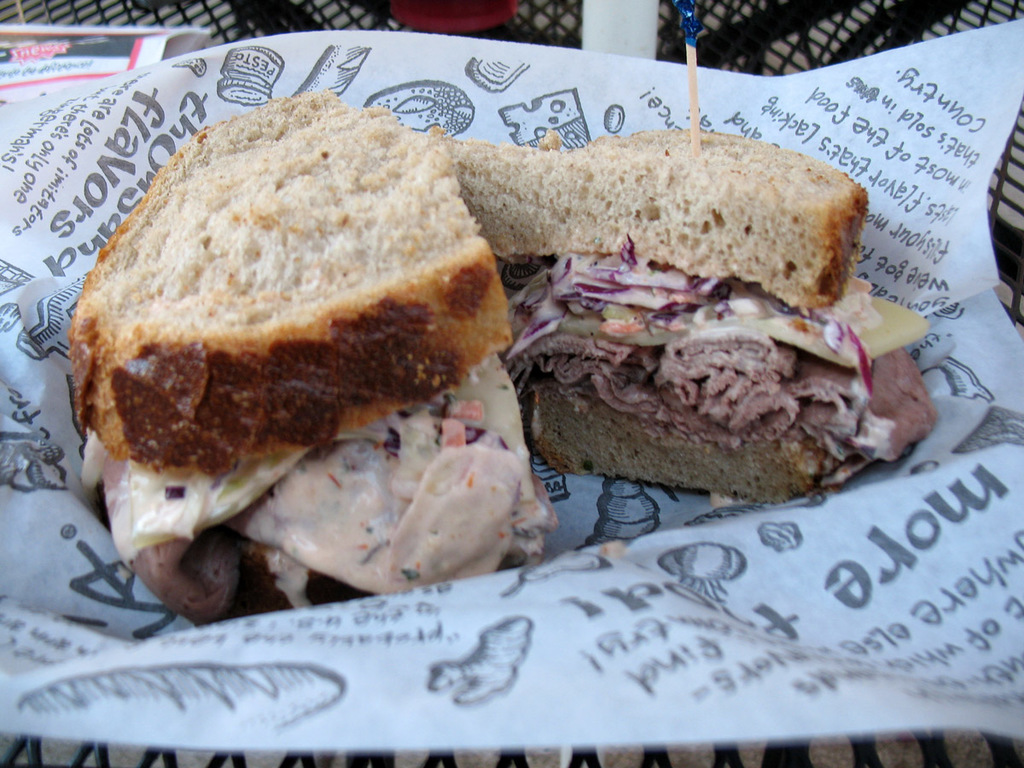sandwich: (73, 82, 548, 617), (452, 118, 936, 503)
